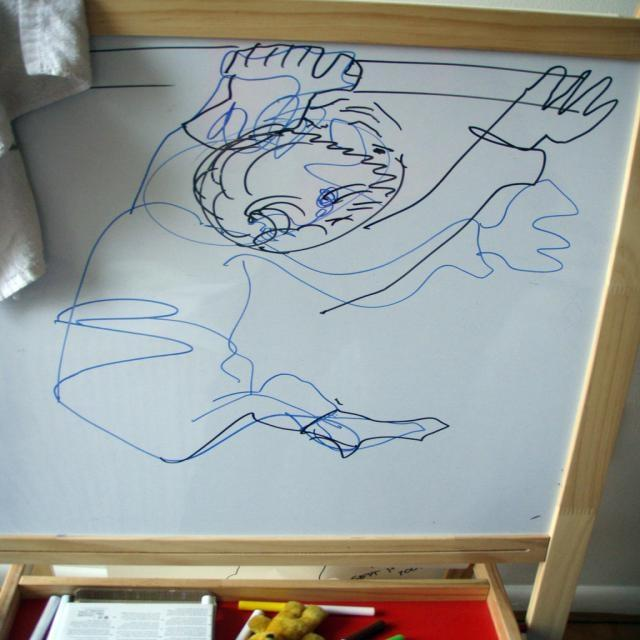Whiteboard: (0, 0, 637, 557)
